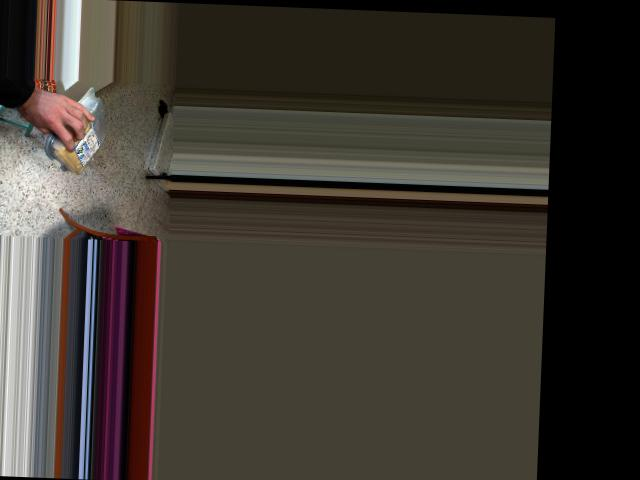cheese: (57, 90, 100, 183)
